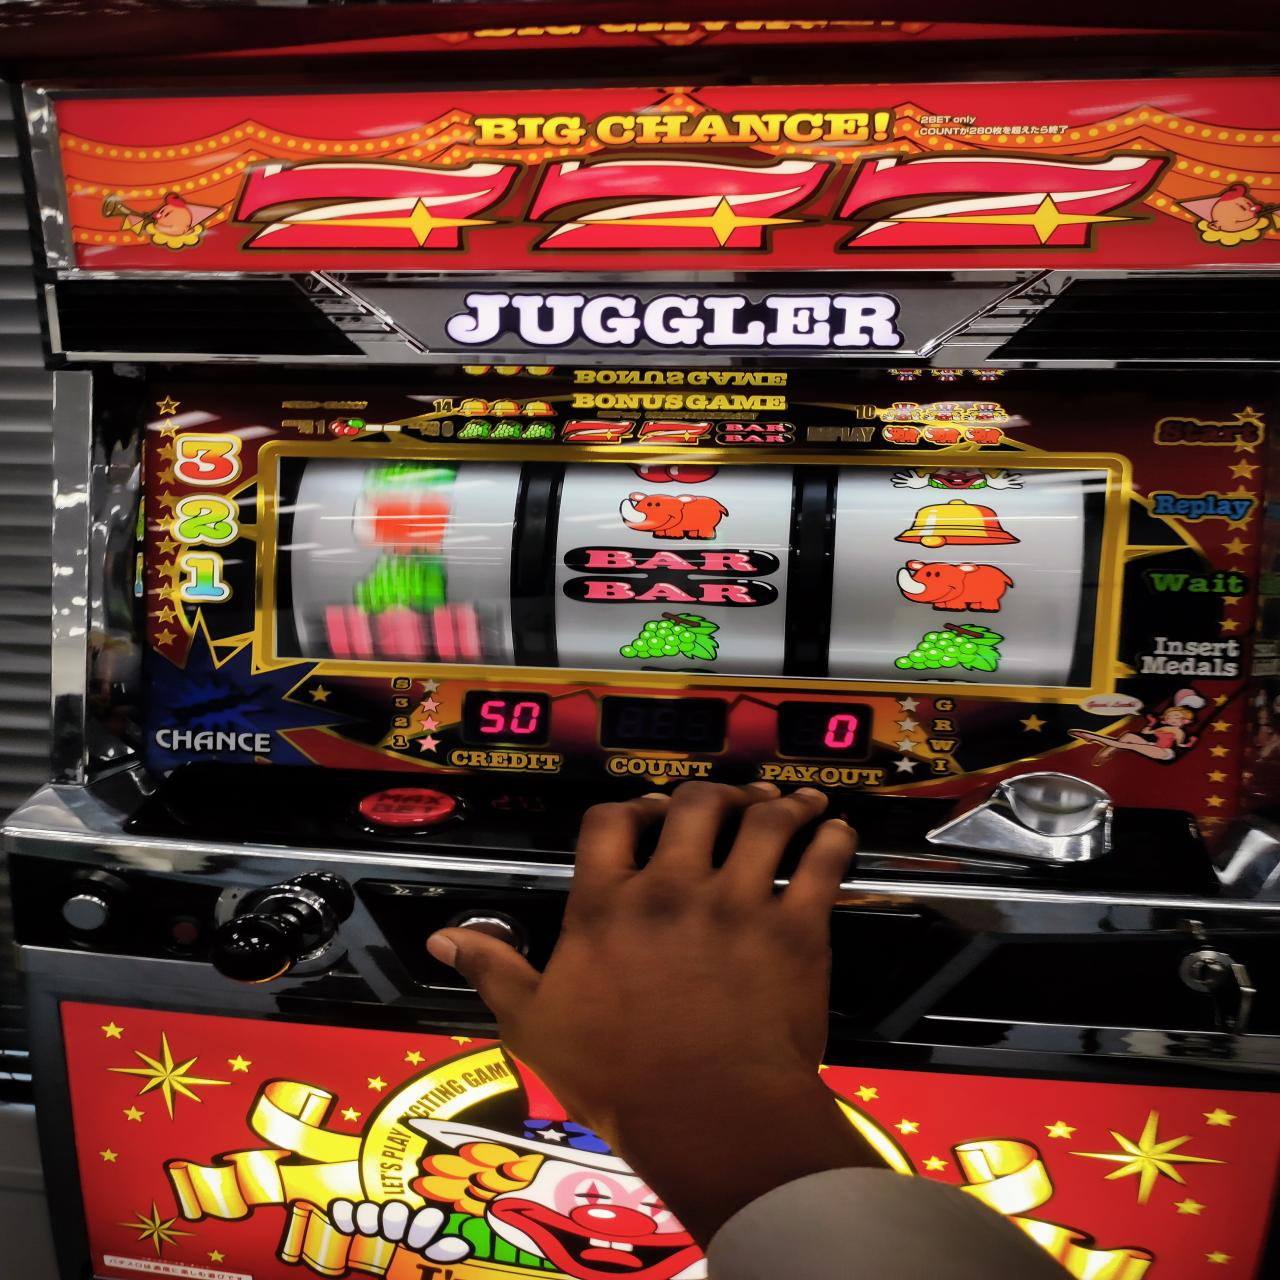8: (894, 559, 1014, 614), (617, 490, 731, 539)
bar: (560, 545, 788, 607)
bell: (892, 498, 1019, 550)
grape: (888, 622, 1002, 673), (617, 612, 723, 661)
rhino: (270, 449, 1102, 693)
